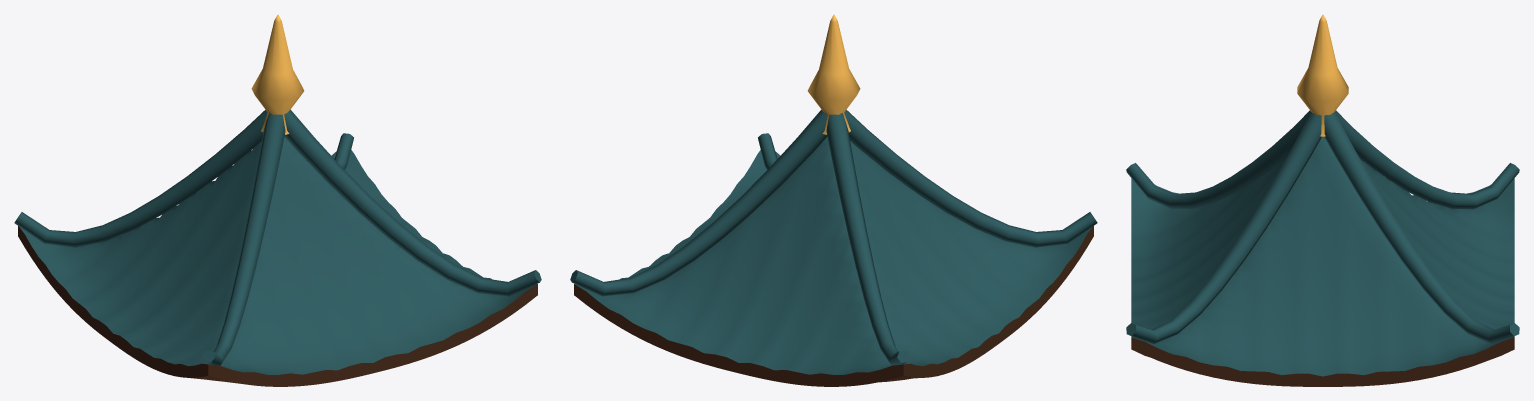
The model's file is roof_pyramid.glb.
3 views of the same model, side by side, from view 1: azimuth 30°, elevation 25°; view 2: azimuth 150°, elevation 25°; view 3: azimuth 270°, elevation 25° (orthographic).
Parts seen in each view (by area): view 1: roof_pyramid; view 2: roof_pyramid; view 3: roof_pyramid.
Part boxes in pixels (x1=…): roof_pyramid: x1=14, y1=14, x2=541, y2=386; roof_pyramid: x1=570, y1=14, x2=1097, y2=386; roof_pyramid: x1=1126, y1=14, x2=1519, y2=386.
Size of the model in its own units: 2.05 by 1.68 by 2.05.
